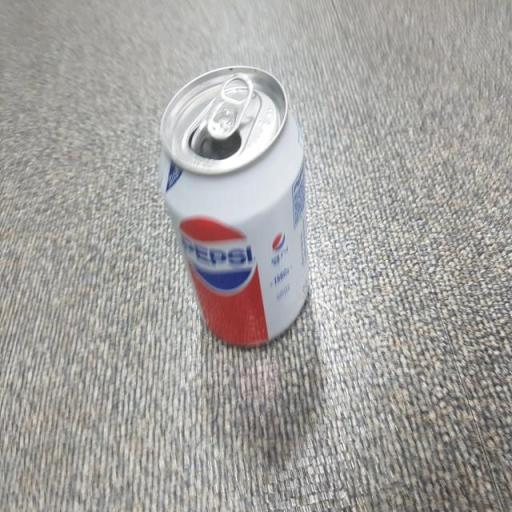metal: (137, 46, 333, 364)
